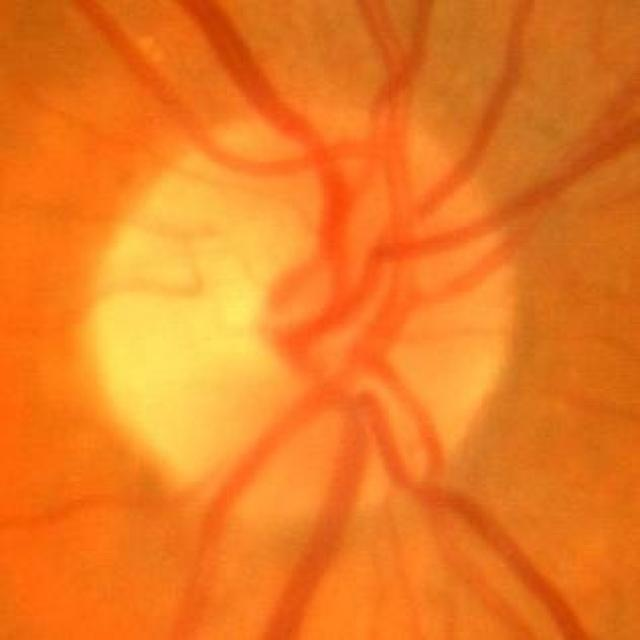OC: (199, 238, 345, 379)
OD: (75, 103, 517, 522)
